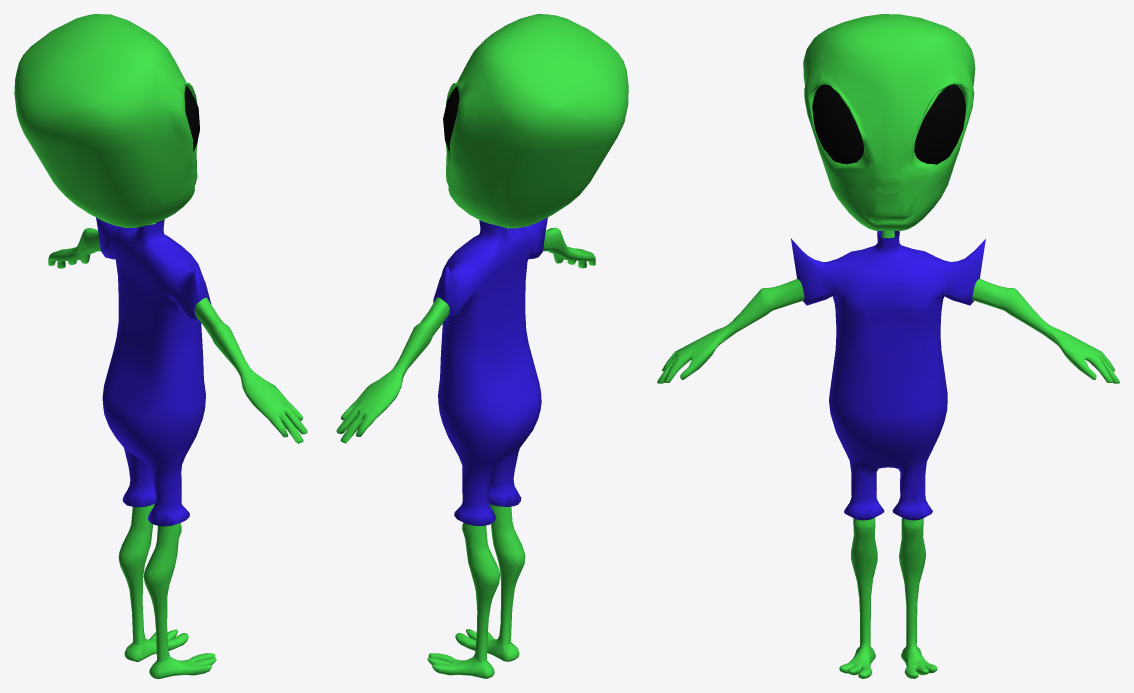
Rendered from alienchac.fbx.
3 views of the same model, side by side, from view 1: azimuth 30°, elevation 25°; view 2: azimuth 150°, elevation 25°; view 3: azimuth 270°, elevation 25° (orthographic). The views are drawn at different scales.
Parts seen in each view (by area): view 1: alienchac; view 2: alienchac; view 3: alienchac.
Part boxes in pixels (bbox=[...]): alienchac: bbox=[14, 14, 307, 678]; alienchac: bbox=[336, 14, 628, 678]; alienchac: bbox=[657, 14, 1119, 678].
Size of the model in its own units: 51.46 by 179 by 121.
